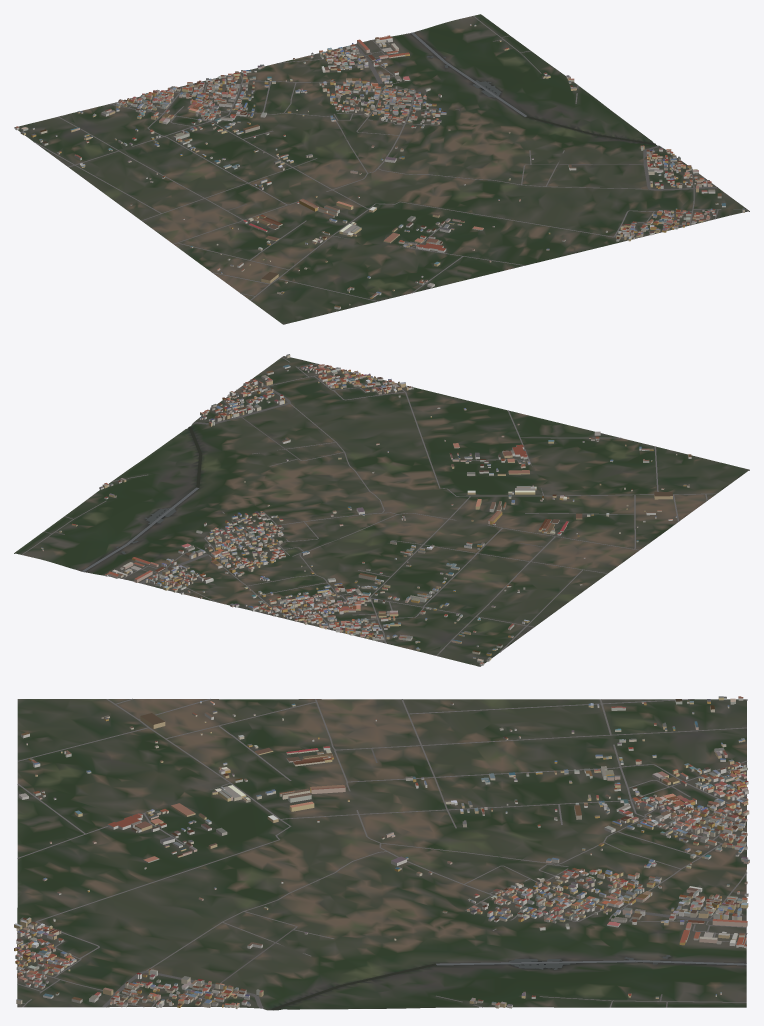
3 renders of one model, top to bottom at view 1: azimuth 30°, elevation 25°; view 2: azimuth 150°, elevation 25°; view 3: azimuth 270°, elevation 25°, orthographic. The views are drawn at different scales.
Visible parts, largest first — view 1: ground, buildings, roads, water; view 2: ground, buildings, roads, water; view 3: ground, buildings, roads, water.
Part boxes in pixels (x1,y1,x2,y2): ground: [14, 14, 749, 324]; buildings: [15, 24, 744, 309]; roads: [14, 15, 747, 301]; water: [411, 32, 655, 144]; ground: [14, 356, 749, 666]; buildings: [41, 354, 691, 665]; roads: [21, 357, 716, 666]; water: [82, 426, 202, 571]; ground: [17, 699, 746, 1010]; buildings: [14, 696, 749, 1008]; roads: [17, 698, 747, 1008]; water: [271, 955, 746, 1010].
Size of the model in its own units: 1411 by 22.14 by 1415.
